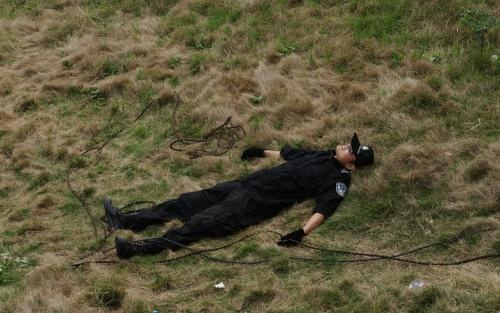falling: (89, 124, 374, 260)
